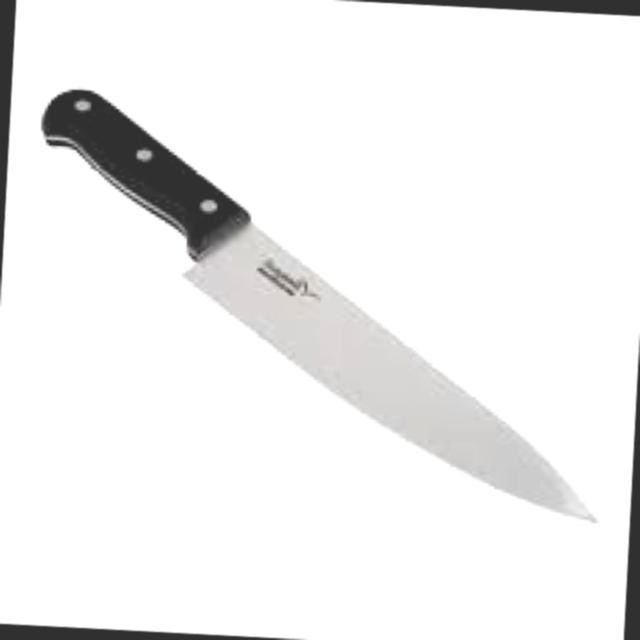knife: (16, 78, 628, 534)
